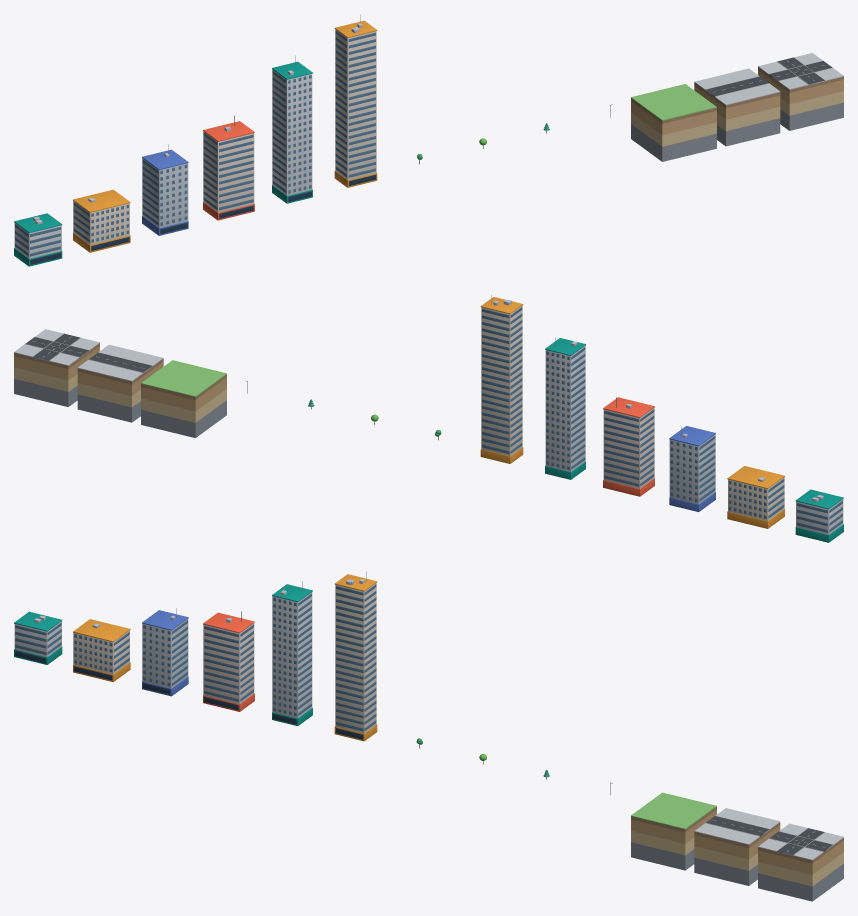
The model's file is city.glb.
3 views of the same model, one above another, from view 1: azimuth 30°, elevation 25°; view 2: azimuth 150°, elevation 25°; view 3: azimuth 330°, elevation 25° (orthographic).
Visible parts, largest first — view 1: Building_Tower_B, Building_Tower_A, Ground_grass, Building_Mid_B, Ground_road_x, Ground_cross, Building_Mid_A, Building_Low_B, Building_Low_A; view 2: Building_Tower_B, Building_Tower_A, Ground_grass, Building_Mid_B, Ground_road_x, Ground_cross, Building_Mid_A, Building_Low_B, Building_Low_A; view 3: Building_Tower_B, Building_Tower_A, Ground_cross, Building_Mid_B, Ground_road_x, Ground_grass, Building_Mid_A, Building_Low_B, Building_Low_A.
Part boxes in pixels (<box>): Building_Tower_B: <box>334,14,377,187</box>; Building_Tower_A: <box>272,55,312,203</box>; Ground_grass: <box>631,84,716,161</box>; Building_Mid_B: <box>203,115,254,220</box>; Ground_road_x: <box>694,68,780,146</box>; Ground_cross: <box>758,53,843,130</box>; Building_Mid_A: <box>142,144,188,235</box>; Building_Low_B: <box>73,189,130,252</box>; Building_Low_A: <box>14,213,62,266</box>; Building_Tower_B: <box>480,295,523,463</box>; Building_Tower_A: <box>545,337,585,479</box>; Ground_grass: <box>141,360,226,437</box>; Building_Mid_B: <box>603,397,654,496</box>; Ground_road_x: <box>77,344,163,422</box>; Ground_cross: <box>14,329,99,406</box>; Building_Mid_A: <box>669,426,715,511</box>; Building_Low_B: <box>727,466,784,528</box>; Building_Low_A: <box>795,489,843,542</box>; Building_Tower_B: <box>334,571,377,741</box>; Building_Tower_A: <box>272,581,312,725</box>; Ground_cross: <box>758,823,843,901</box>; Building_Mid_B: <box>203,611,254,711</box>; Ground_road_x: <box>694,808,780,885</box>; Ground_grass: <box>631,792,716,870</box>; Building_Mid_A: <box>142,608,188,696</box>; Building_Low_B: <box>73,619,130,682</box>; Building_Low_A: <box>14,611,62,664</box>.
Size of the model in its own units: 444 by 107 by 30.
